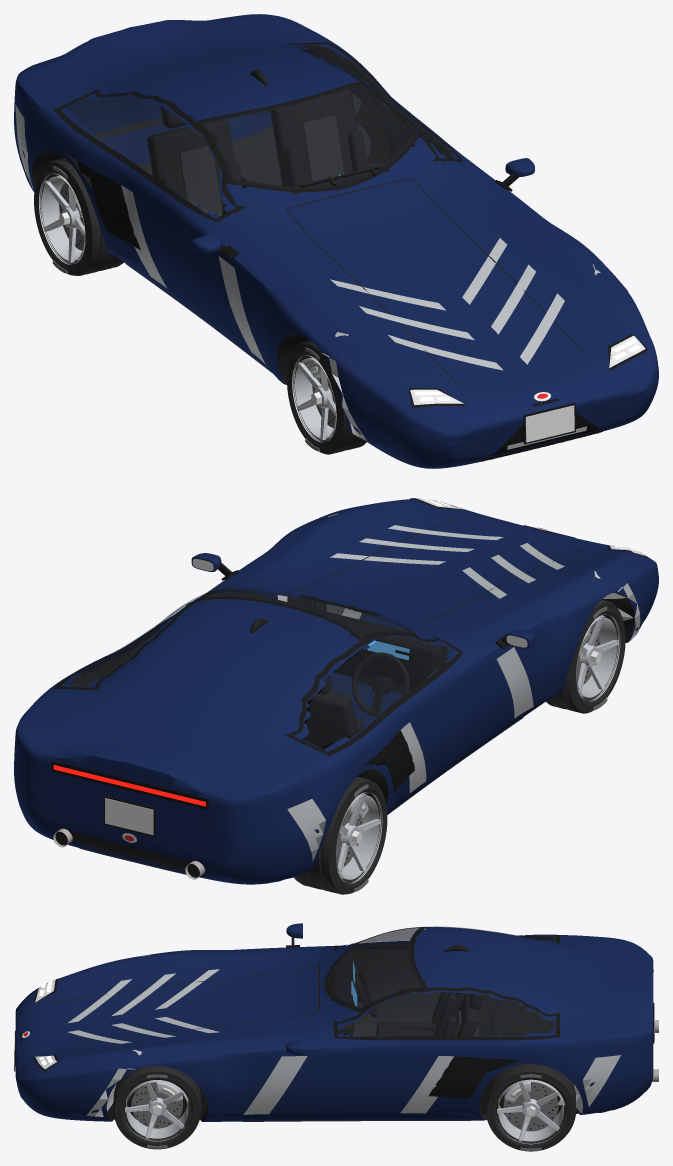
File: hoshi.glb
The picture shows the model from 3 angles, top to bottom: view 1: azimuth 30°, elevation 25°; view 2: azimuth 150°, elevation 25°; view 3: azimuth 270°, elevation 25°; orthographic projection. The views are drawn at different scales.
Parts seen in each view (by area): view 1: Body, Wheel_RR, Wheel_FR; view 2: Body, Wheel_RR, Wheel_FR, Wheel_FL; view 3: Body, Wheel_RL, Wheel_FL.
Boxes of the visible parts, left/top/right/bottom form: Body: left=14, top=14, right=658, bottom=468; Wheel_RR: left=34, top=158, right=123, bottom=275; Wheel_FR: left=287, top=340, right=366, bottom=454; Body: left=14, top=497, right=658, bottom=884; Wheel_RR: left=294, top=776, right=387, bottom=894; Wheel_FR: left=546, top=600, right=625, bottom=713; Wheel_FL: left=287, top=596, right=367, bottom=619; Body: left=14, top=923, right=658, bottom=1121; Wheel_RL: left=486, top=1064, right=575, bottom=1151; Wheel_FL: left=113, top=1066, right=200, bottom=1149.
Bounding box in the file's own units: 2.31 × 1.31 × 5.
